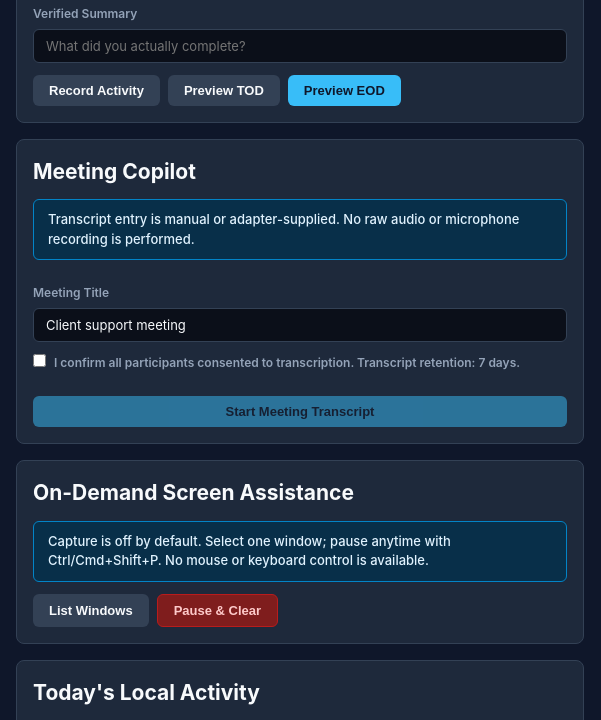
Scenario: Desktop Overlay App Component › requires consent and shows visible active meeting state
(page scrolled)
Check: the button "Start Meeting Transcript" is disabled, box [33,396,567,427]
Click the checkbox labelled "participants consented".
click(40, 360)  # box [33,354,46,367]
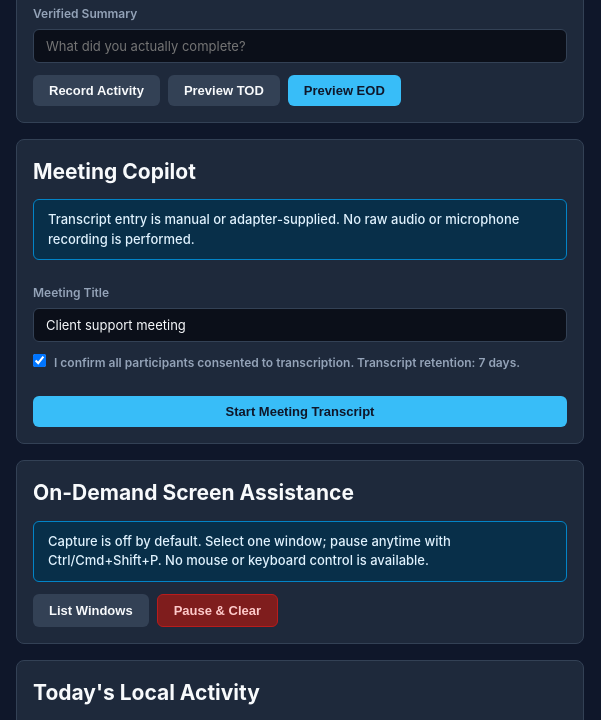
Click the button "Start Meeting Transcript".
click(300, 412)  # box [33,396,567,427]
(page scrolled)
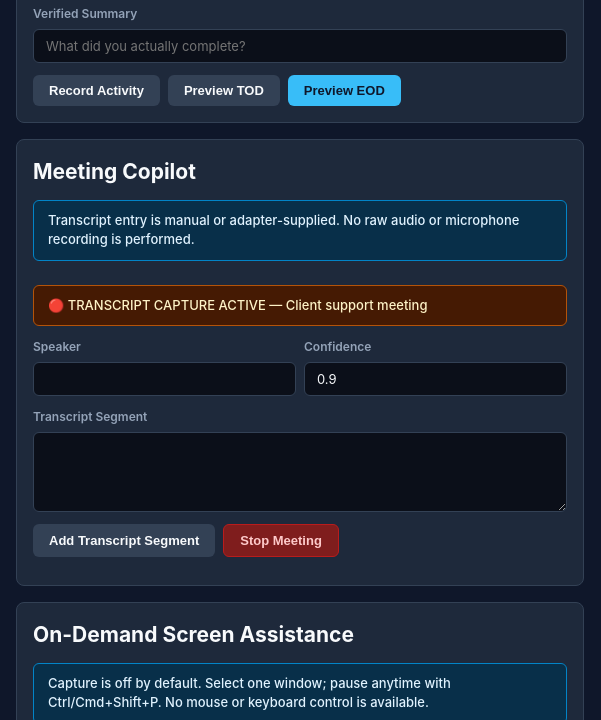
Check: the text "🔴 TRANSCRIPT CAPTURE ACTIVE — Client support meeting" is shown, box [33,284,567,326]
